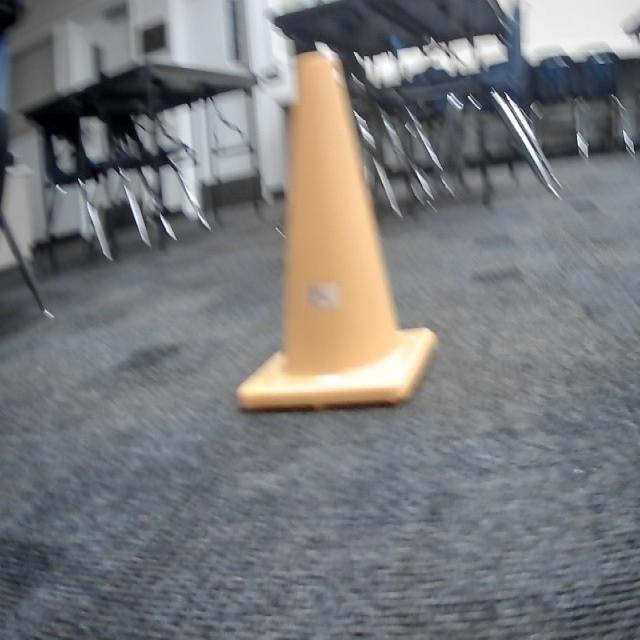cone: (233, 53, 437, 410)
